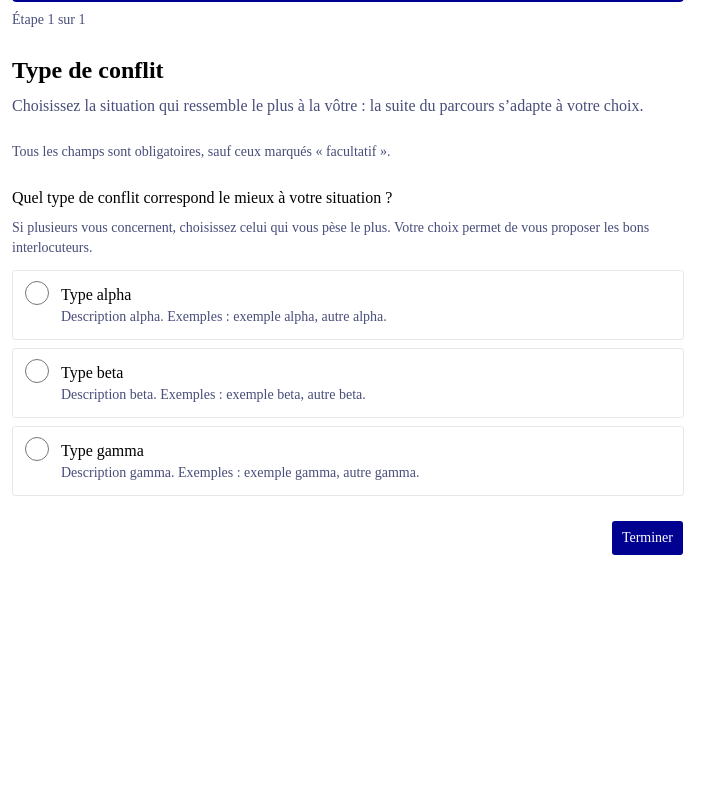
Test: follow-up questions step › validation through followUpAnswersSchema › refuses an empty step, saying each question is required, in page order
Click the radio button labelled "Type alpha" at (37, 293), box x1=25 y1=281 x2=49 y2=305
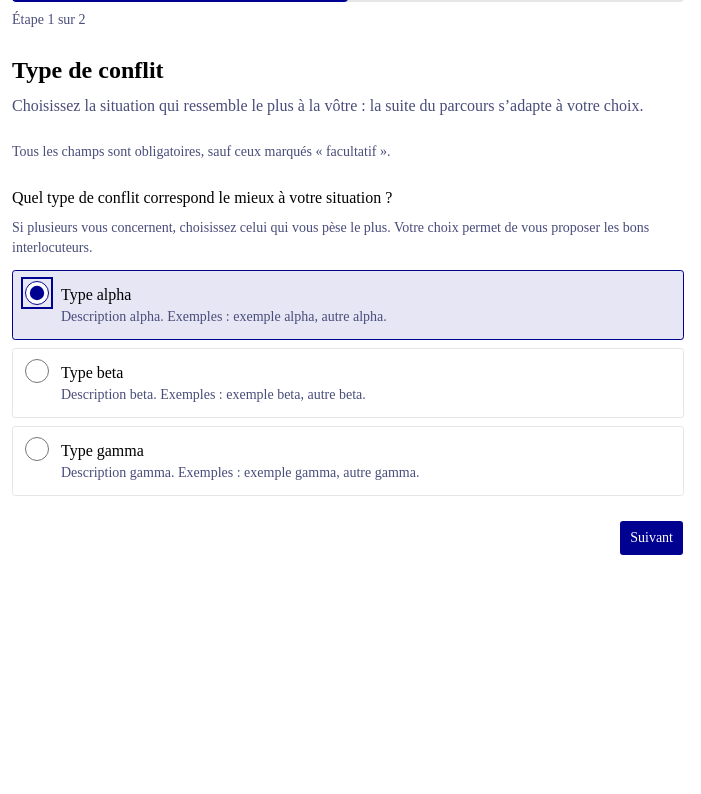
Click the button "Suivant" at (652, 538), box x1=619 y1=520 x2=684 y2=556
(page scrolled)
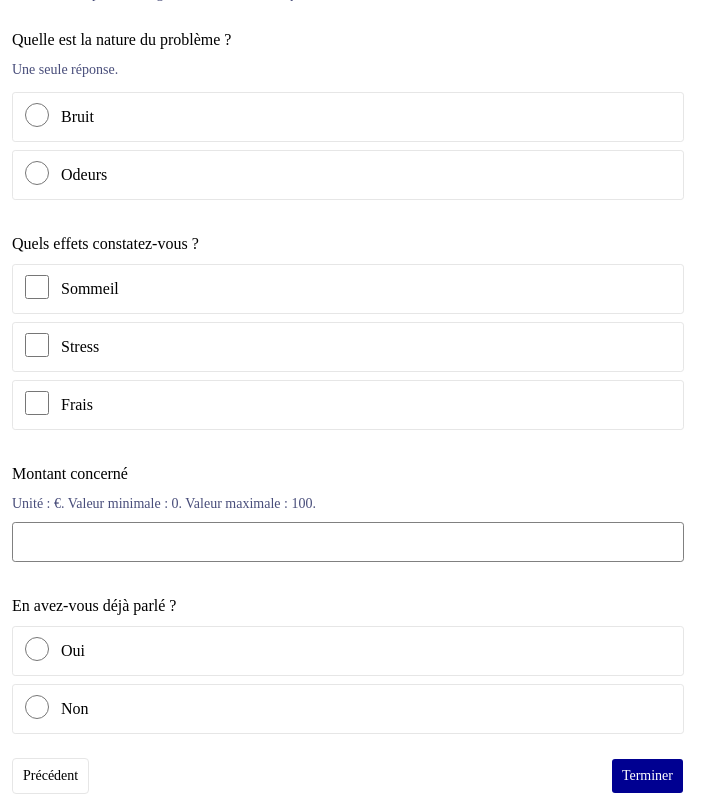
Click the button "Terminer" at (647, 776), box x1=611 y1=758 x2=684 y2=793
(page scrolled)
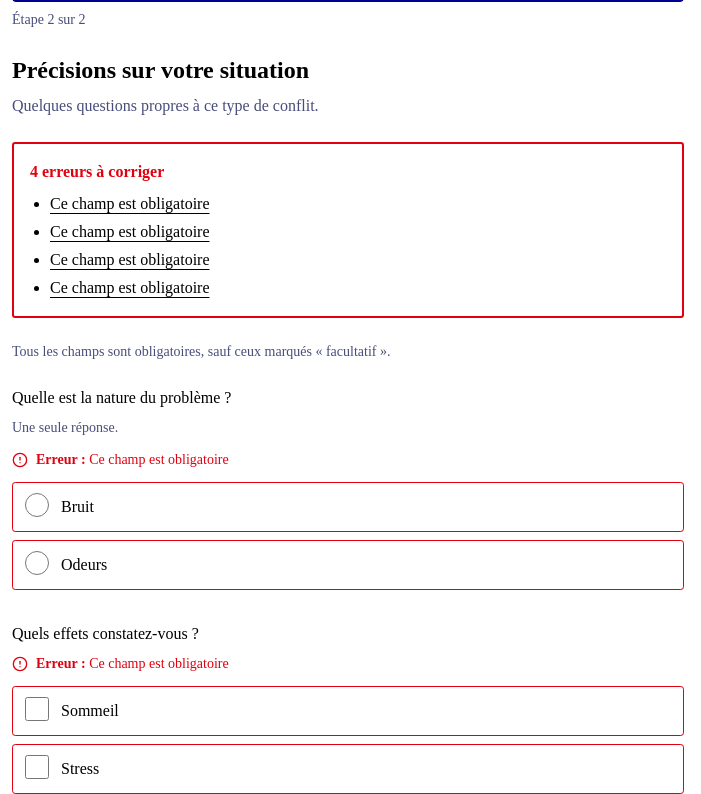
Check: the message shows "4 erreurs à corriger", box x1=30 y1=163 x2=164 y2=180
Check: the links read "Ce champ est obligatoire", "Ce champ est obligatoire", "Ce champ est obligatoire", "Ce champ est obligatoire", in this order, box x1=50 y1=195 x2=210 y2=212; x1=50 y1=223 x2=210 y2=240; x1=50 y1=251 x2=210 y2=268; x1=50 y1=279 x2=210 y2=296
